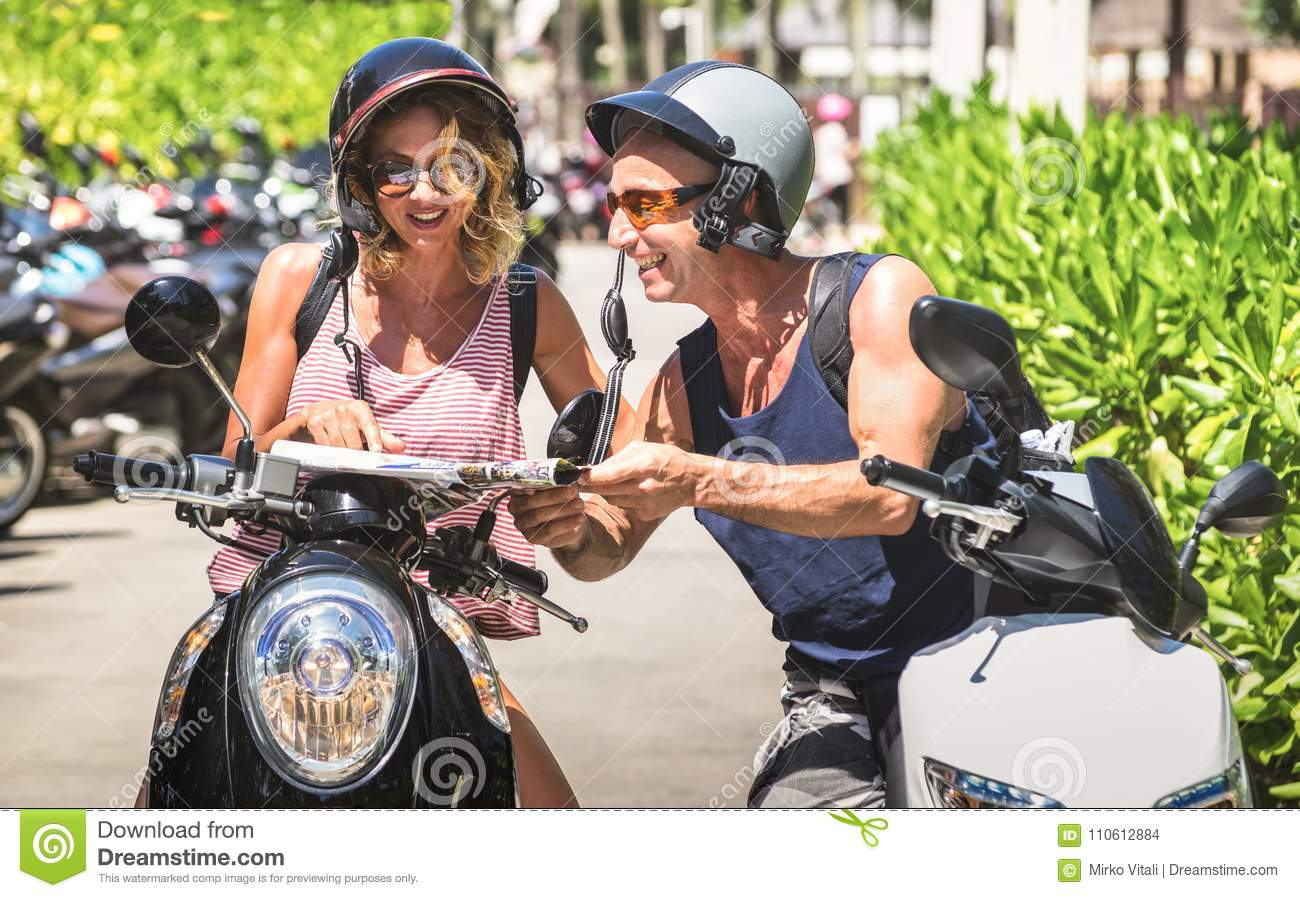helmet: (625, 71, 821, 232), (325, 43, 519, 168)
